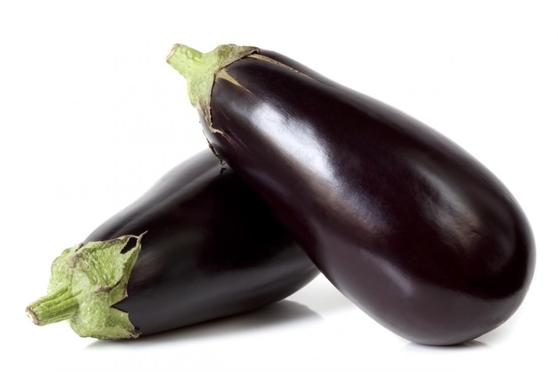eggplant: (164, 40, 541, 348)
